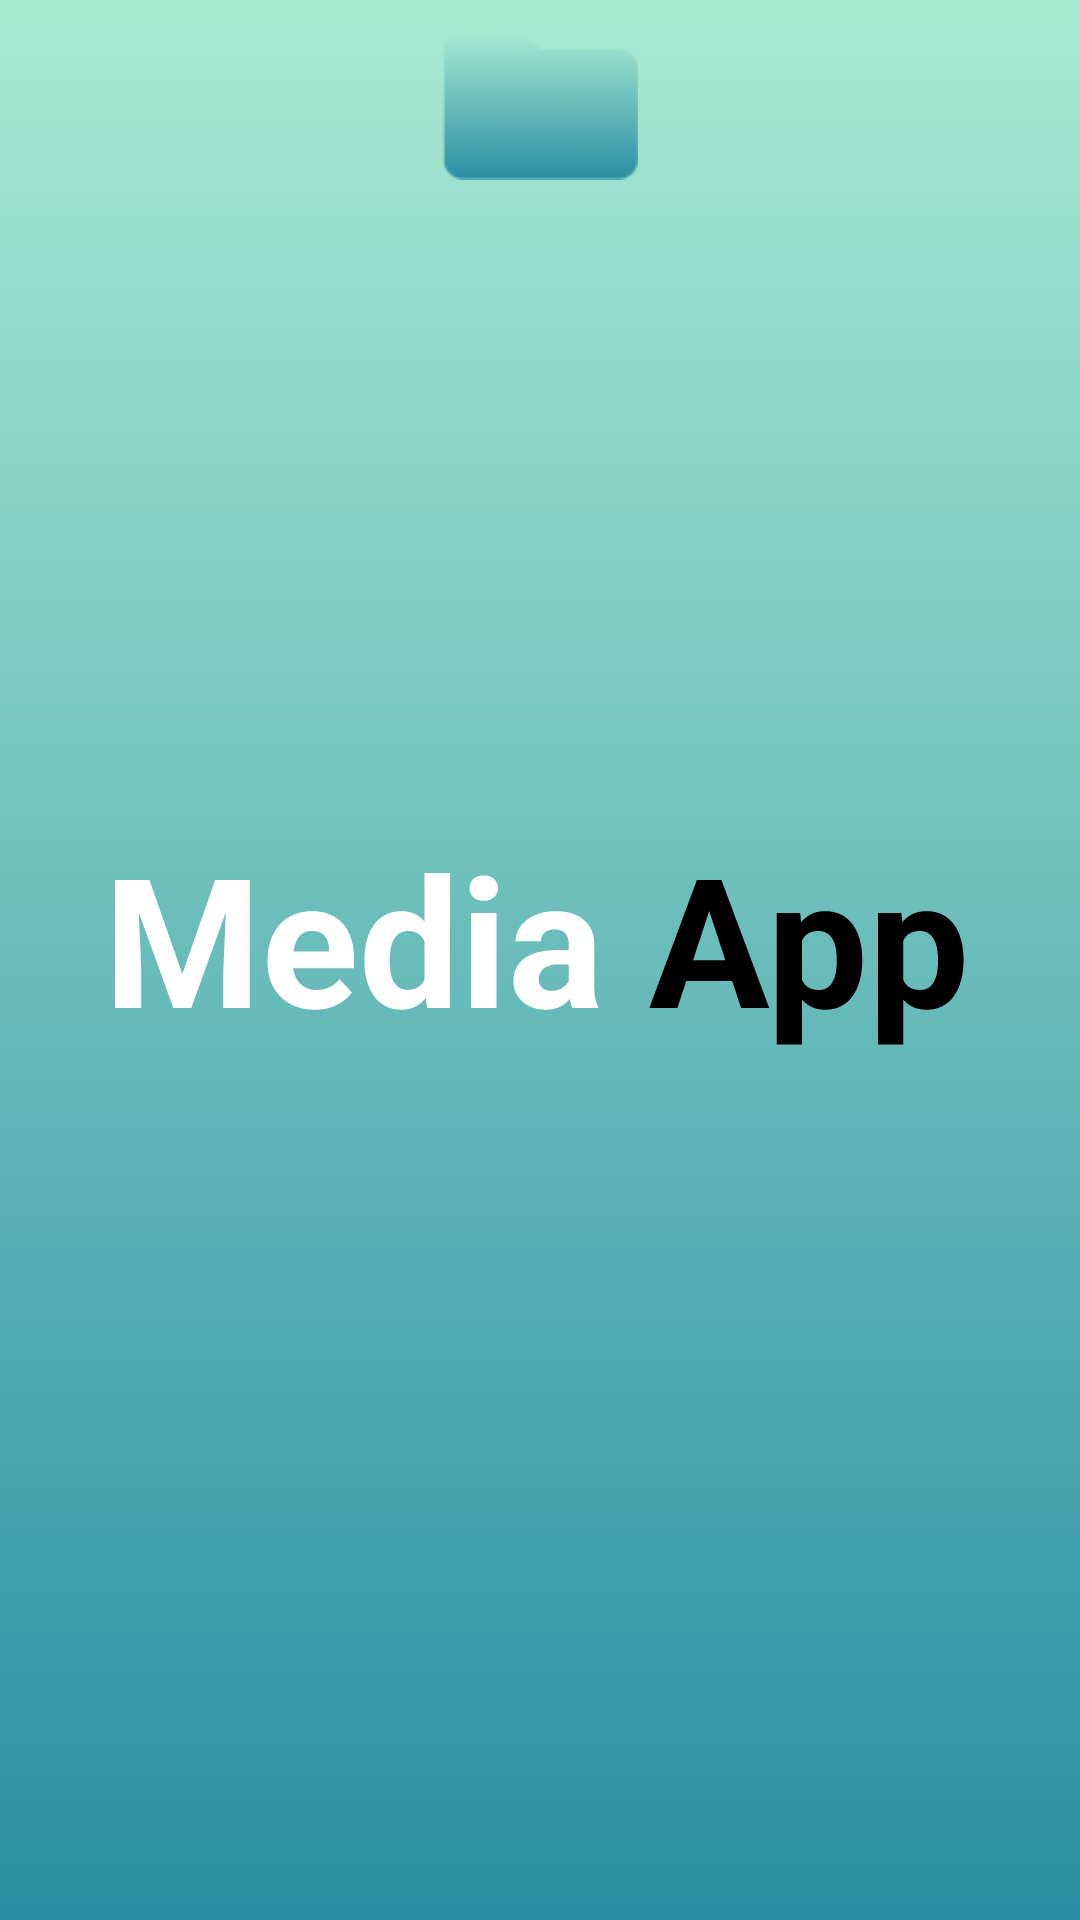

Icon bounding boxes for this 1080×1920 phone screenshot, format box=[x1, y1, x2, y2]:
folder: box=[444, 74, 638, 180]
